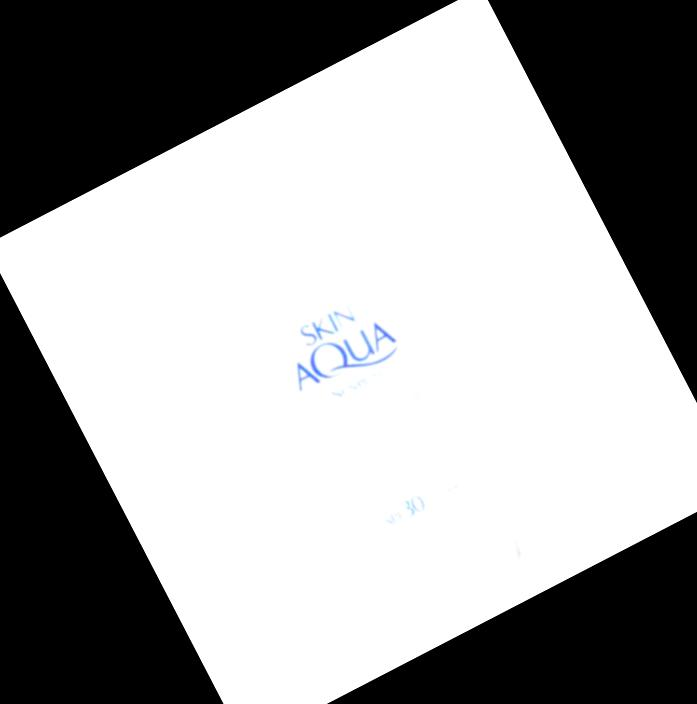cosmetic: (170, 123, 534, 623)
